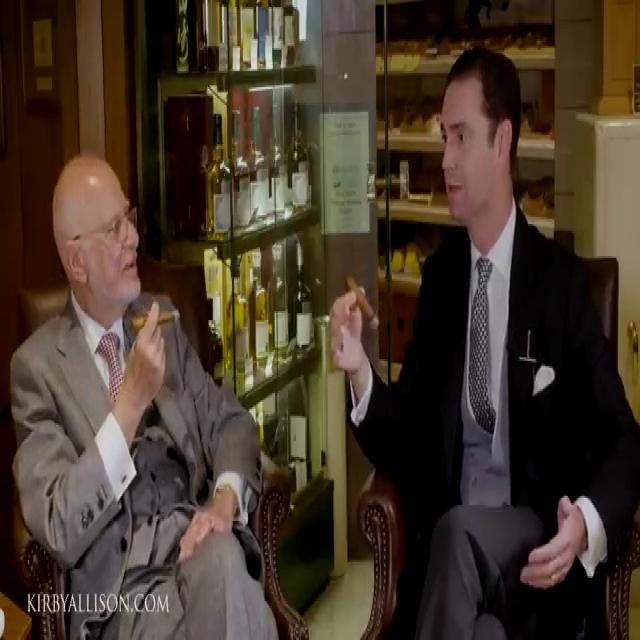Smooking: (344, 267, 383, 335), (116, 302, 184, 332)
